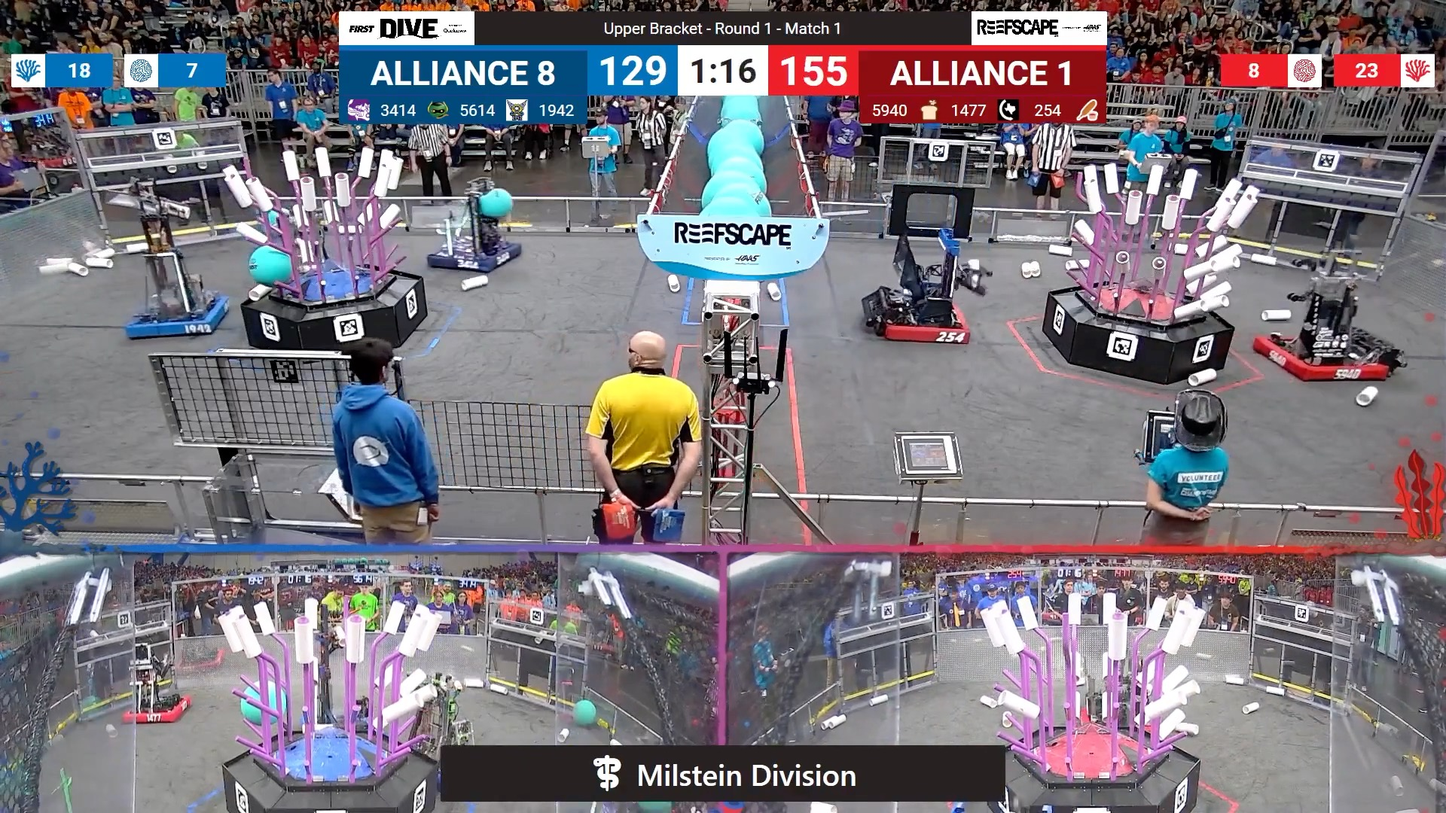bumpers: (1241, 325, 1397, 391), (863, 290, 981, 353), (122, 291, 237, 345), (423, 236, 530, 276), (119, 694, 200, 727)
